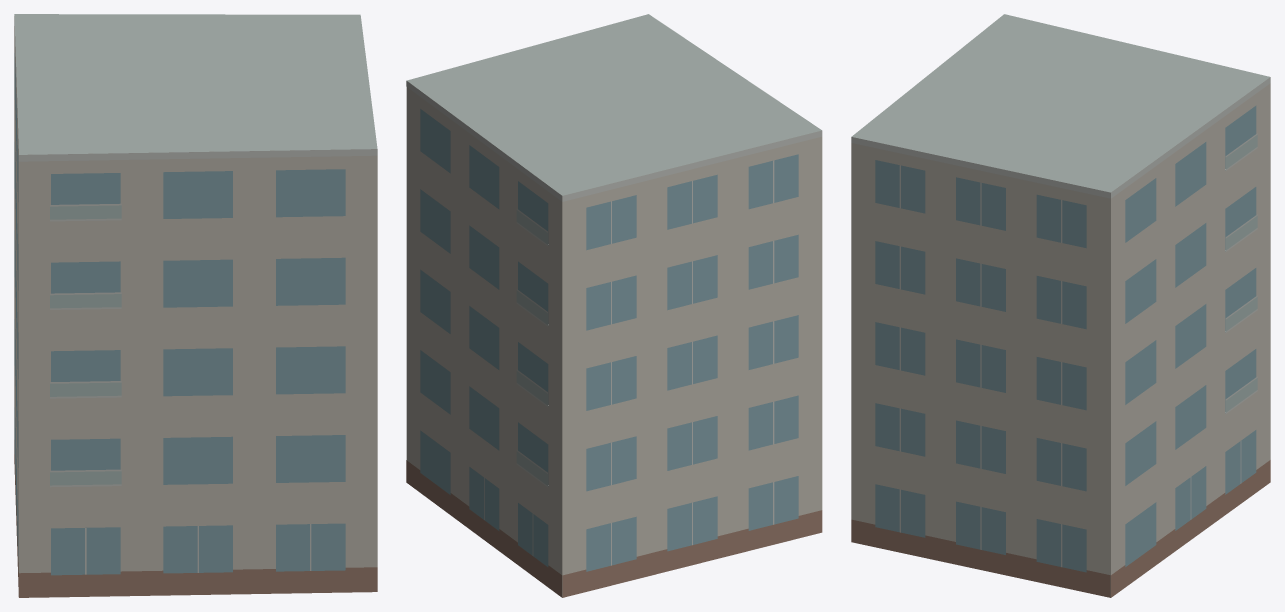
The model's file is survey-upis-32559968.glb.
3 views of the same model, side by side, from view 1: azimuth 30°, elevation 25°; view 2: azimuth 150°, elevation 25°; view 3: azimuth 270°, elevation 25° (orthographic). The views are drawn at different scales.
Visible parts, largest first — view 1: survey-upis-32559968.tmp; view 2: survey-upis-32559968.tmp; view 3: survey-upis-32559968.tmp.
Boxes of the visible parts, left/top/right/bottom form: survey-upis-32559968.tmp: left=14, top=14, right=377, bottom=597; survey-upis-32559968.tmp: left=406, top=14, right=822, bottom=597; survey-upis-32559968.tmp: left=851, top=14, right=1270, bottom=597.
Size of the model in its own units: 15.22 by 16.1 by 15.1.
